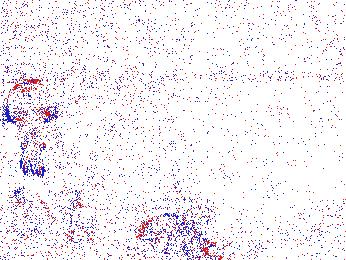flame jellyfish: (4, 80, 59, 176), (128, 210, 215, 260), (47, 188, 95, 238), (8, 188, 46, 234)
